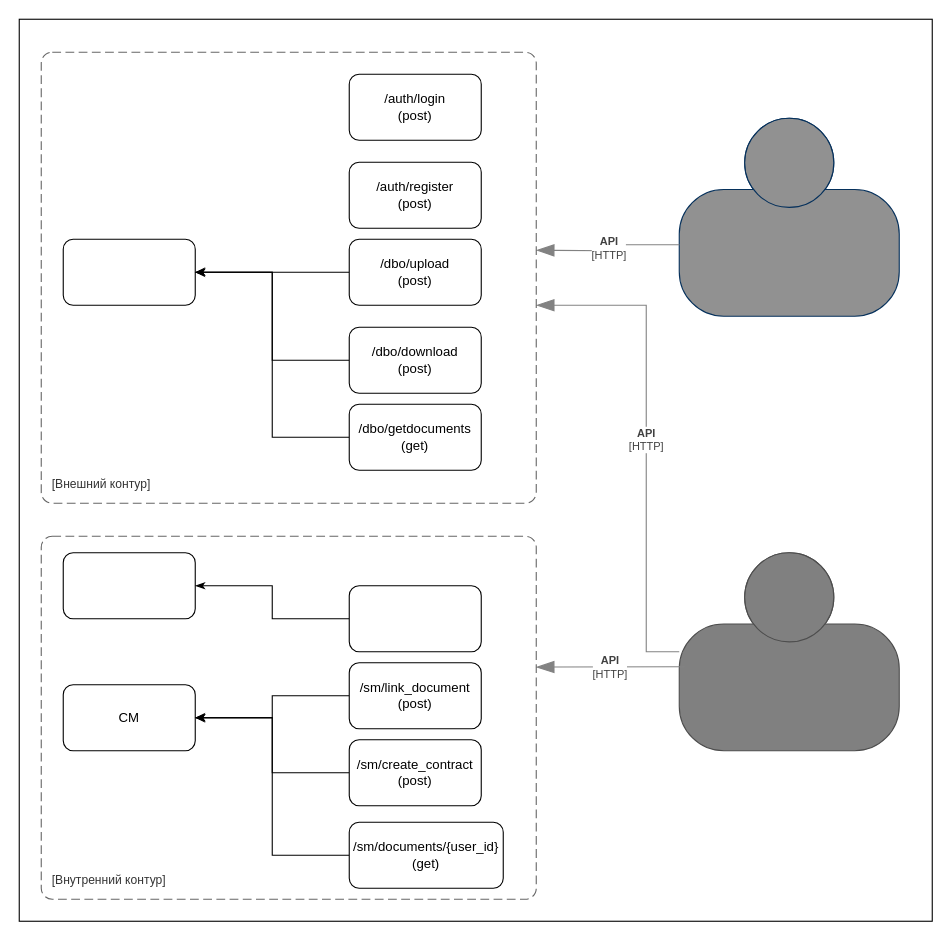
Some shapes in this 952 by 941 pixel diagram are drawn without their labels. Here are the shapes that lost their labels. From the top down, the centre of each, then its label:
At point 788,216: "[Клиент банка]".
At point 128,271: "ДБО".
At point 128,585: "АБС".
At point 414,618: "/abs/documents (get)".
At point 788,651: "[Работник банка]".
